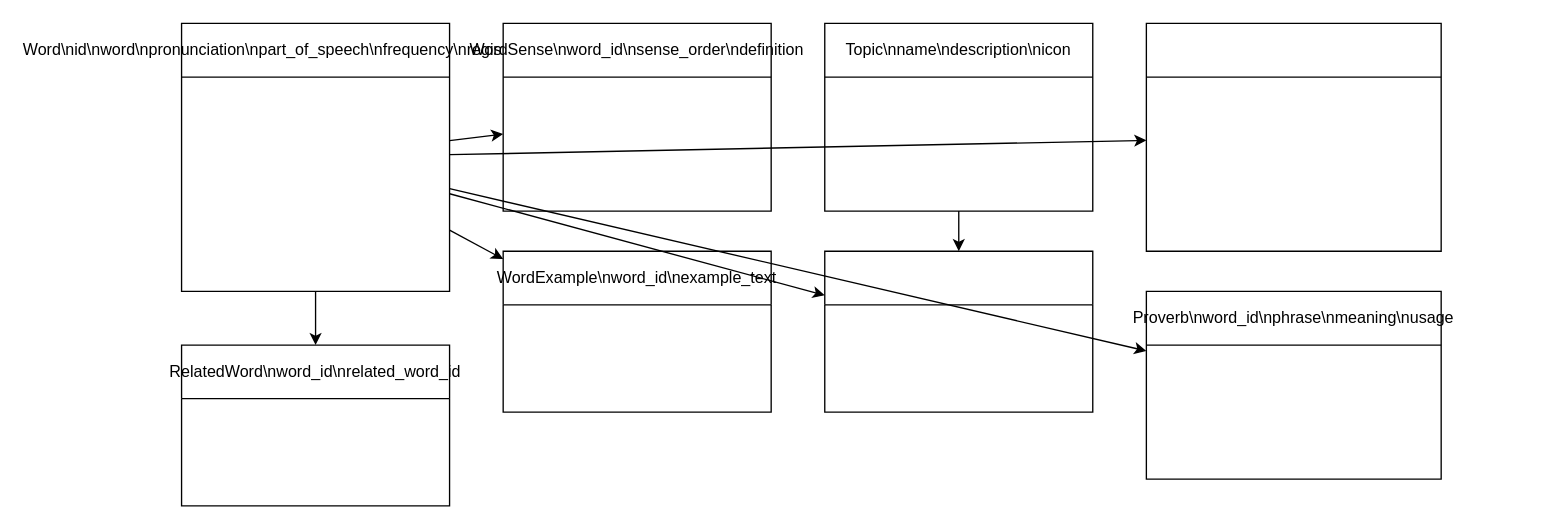
Image size: 1557x529. Some labels were removed from this diagram. Here are the shapes that lost their labels. From the top down, the centre of each, then its label:
At point (1293, 136): "Synonym\nword_id\nsynonym_word_id\nintensity\nfrequency\nnote".
At point (958, 331): "WordTopic\nword_id\ntopic_id".
